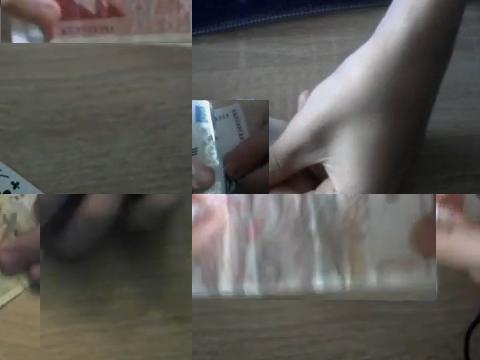20leva: (192, 100, 240, 194)
5leva: (192, 194, 436, 300)
